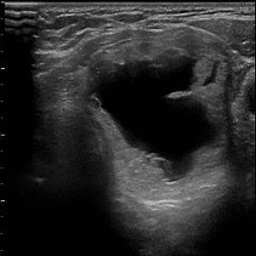mass: (89, 41, 226, 183)
